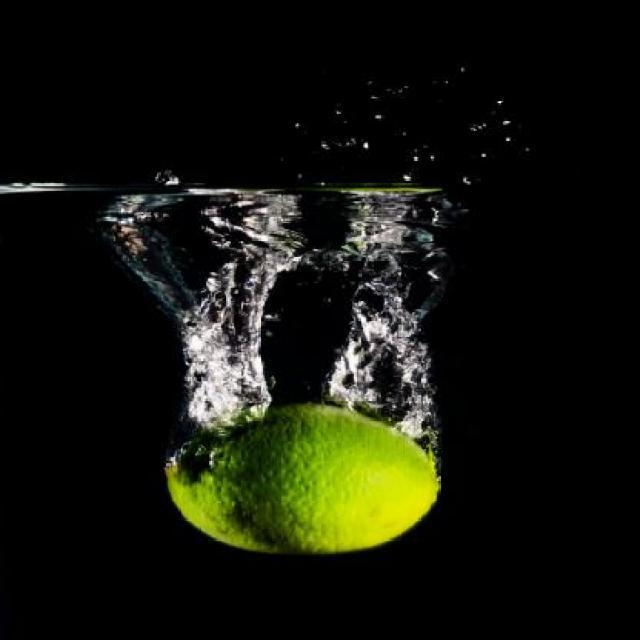Lemon: (165, 402, 438, 556)
